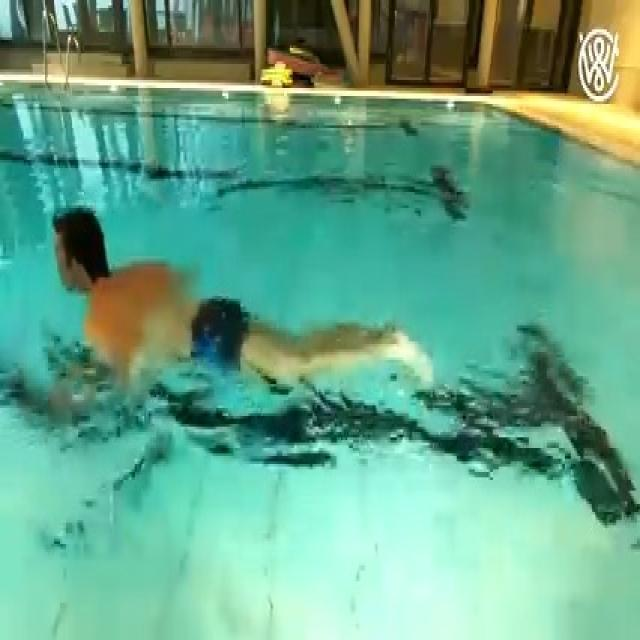Swimming: (47, 207, 435, 415)
